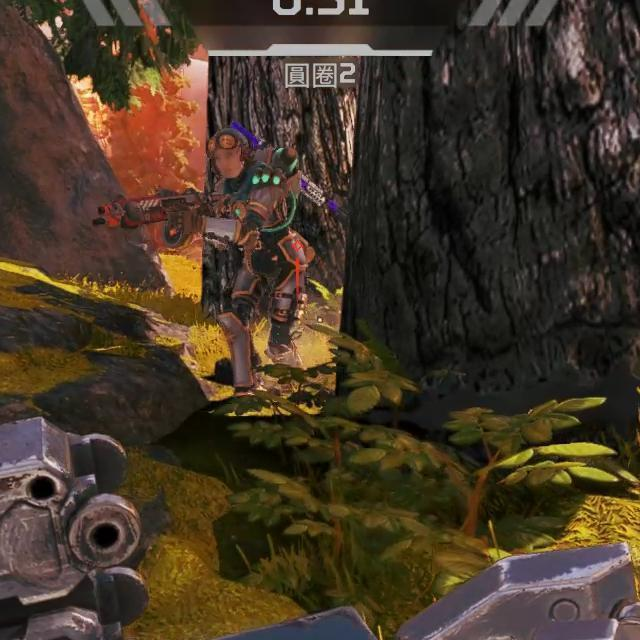avatar: (202, 123, 309, 395)
